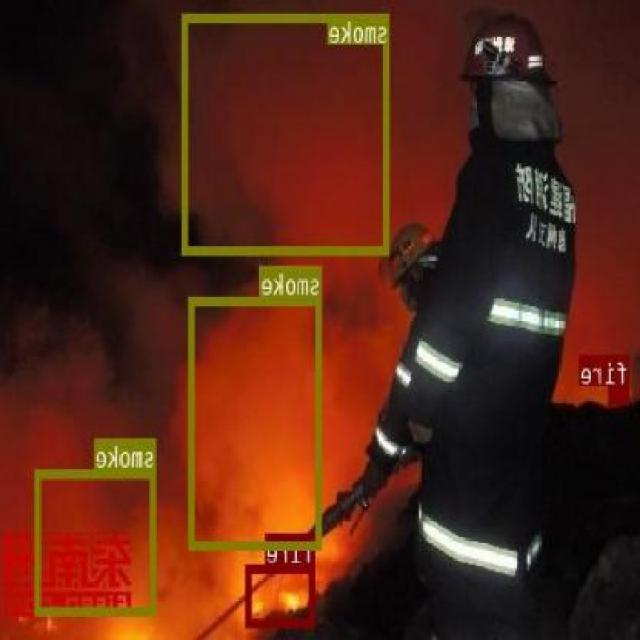Fire: (247, 563, 316, 626), (611, 386, 631, 402)
Smoke: (183, 13, 391, 253), (190, 297, 322, 548), (36, 468, 158, 614)
